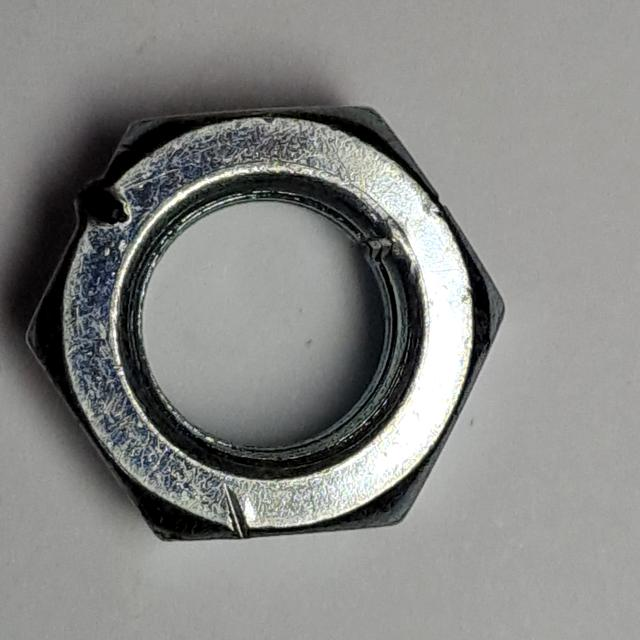Scratches: (2, 90, 525, 555)
